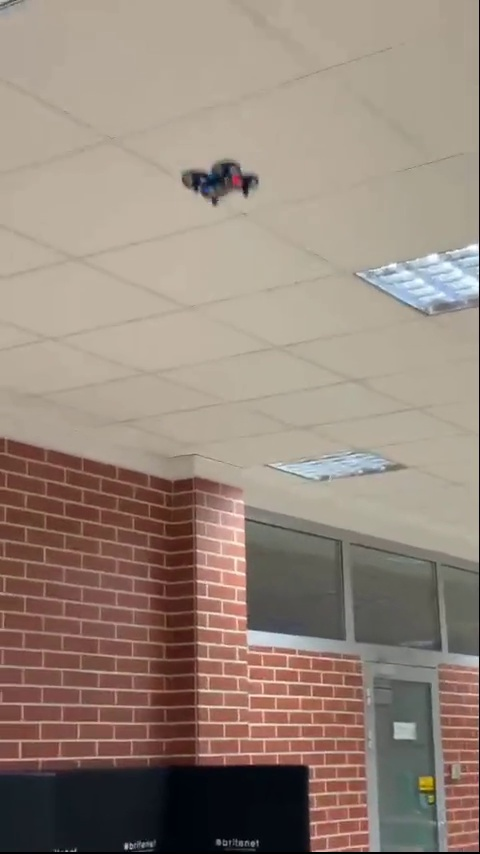drone: (178, 157, 257, 210)
